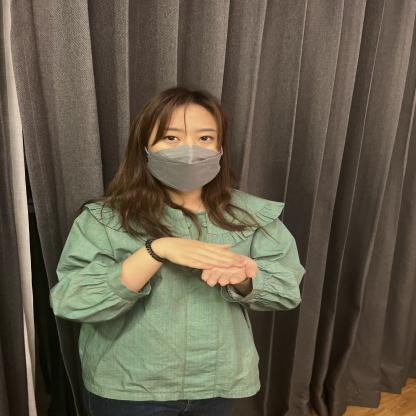Love: (112, 210, 321, 329)
